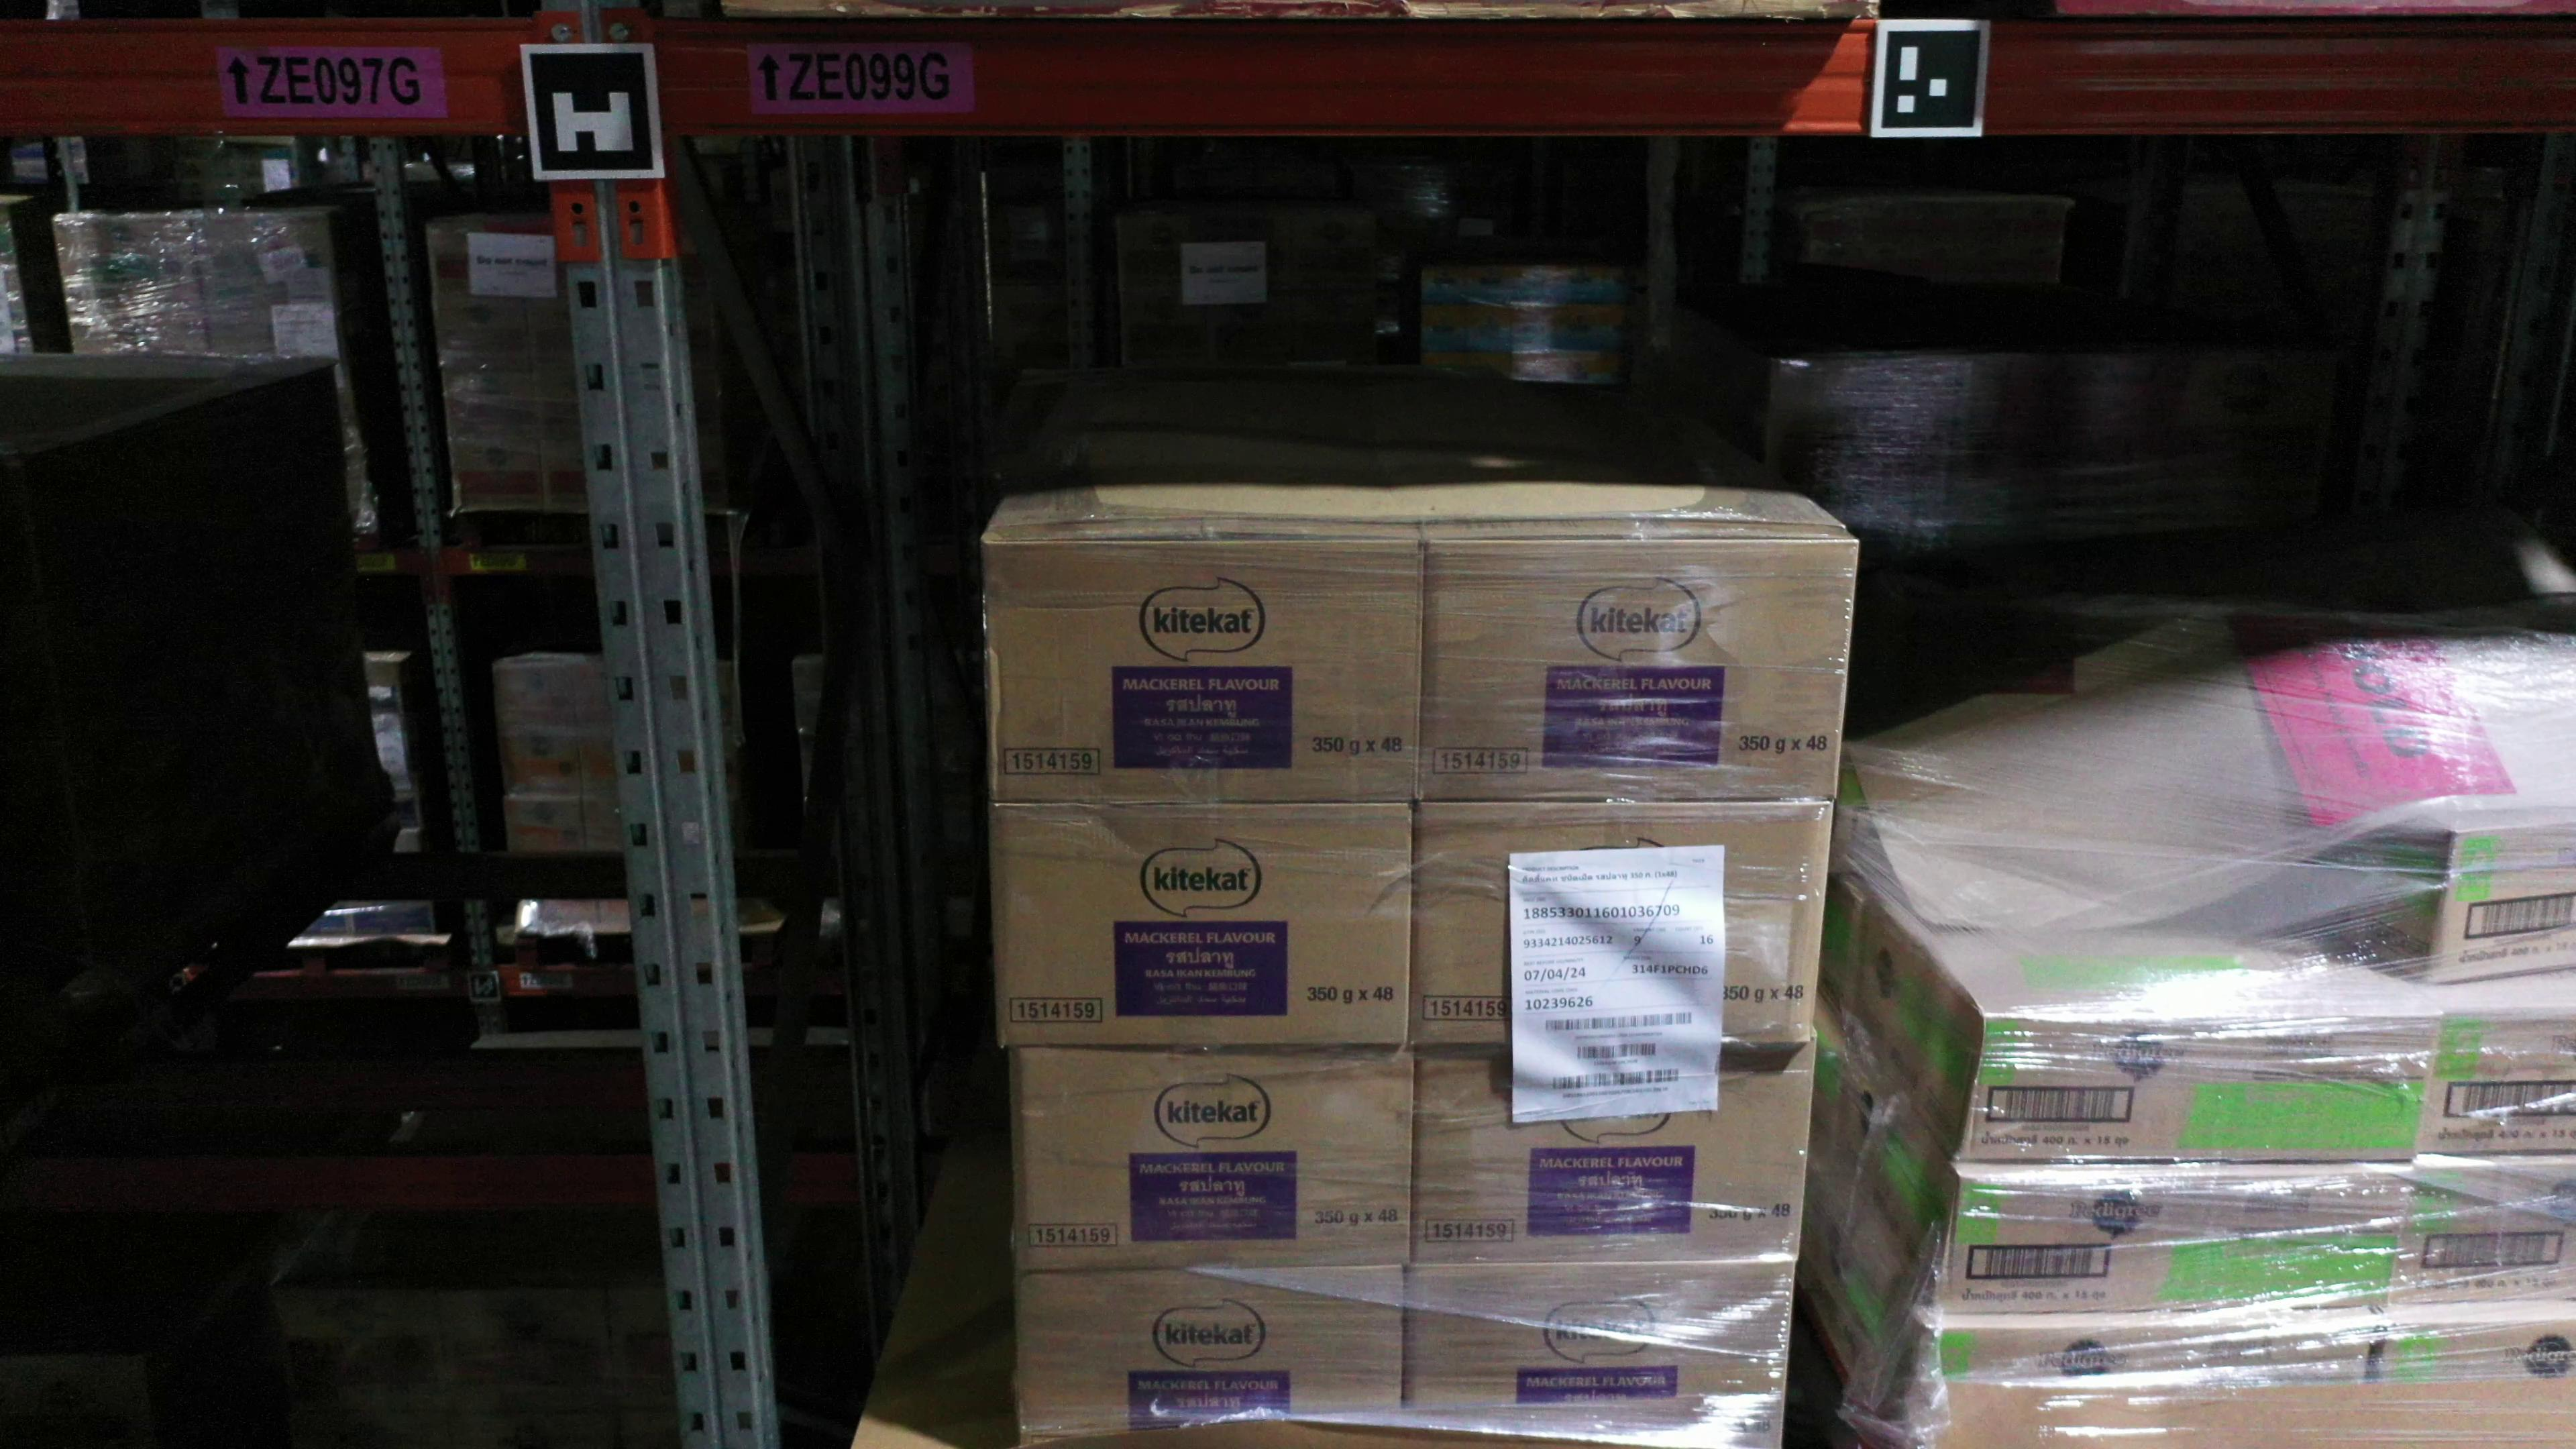-: (1421, 536, 1861, 805), (980, 540, 1422, 805), (989, 800, 1414, 1051), (1408, 798, 1831, 1047), (1010, 1042, 1417, 1272), (1408, 1040, 1815, 1269), (1407, 1256, 1796, 1449), (1957, 1014, 2440, 1168), (1939, 1177, 2410, 1316), (1016, 1263, 1407, 1431), (1927, 1322, 2371, 1396), (2392, 1162, 2576, 1306), (2413, 1007, 2576, 1154), (2431, 819, 2576, 982), (2371, 1315, 2576, 1382)
box: (1766, 356, 1967, 554), (2125, 350, 2332, 536), (1948, 350, 2135, 552)
